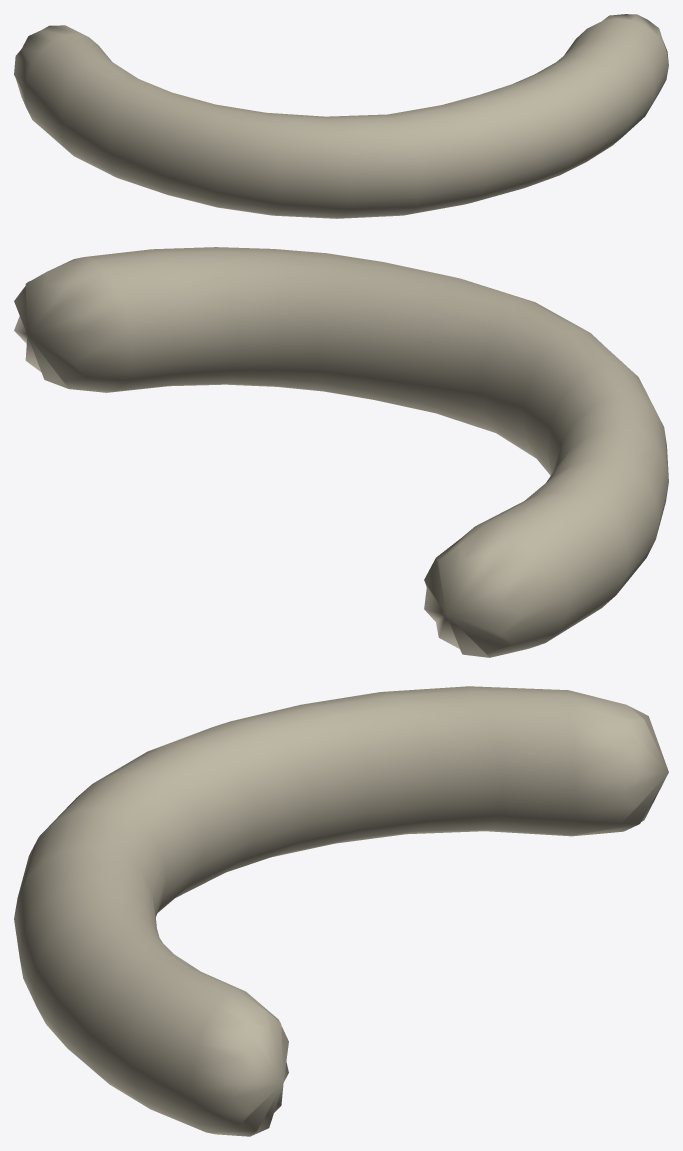
Rendered from SingleBone.fbx.
3 renders of one model, top to bottom at view 1: azimuth 30°, elevation 25°; view 2: azimuth 150°, elevation 25°; view 3: azimuth 270°, elevation 25°, orthographic. The views are drawn at different scales.
Visible parts, largest first — view 1: polySurface1; view 2: polySurface1; view 3: polySurface1.
Boxes of the visible parts, x1,y1,x2,y2 form: polySurface1: (14, 14, 668, 218); polySurface1: (14, 247, 668, 657); polySurface1: (14, 686, 668, 1136).
Size of the model in its own units: 279 by 47.55 by 210.
